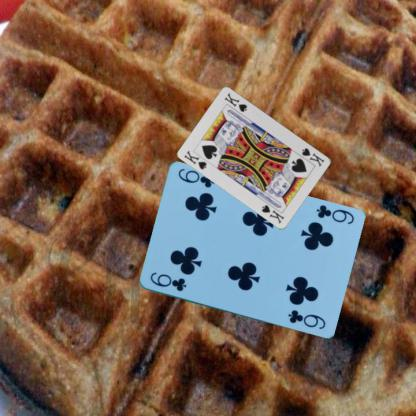6c: (313, 202, 355, 226), (147, 270, 188, 293)
Ks: (299, 145, 326, 168), (181, 148, 208, 171)
